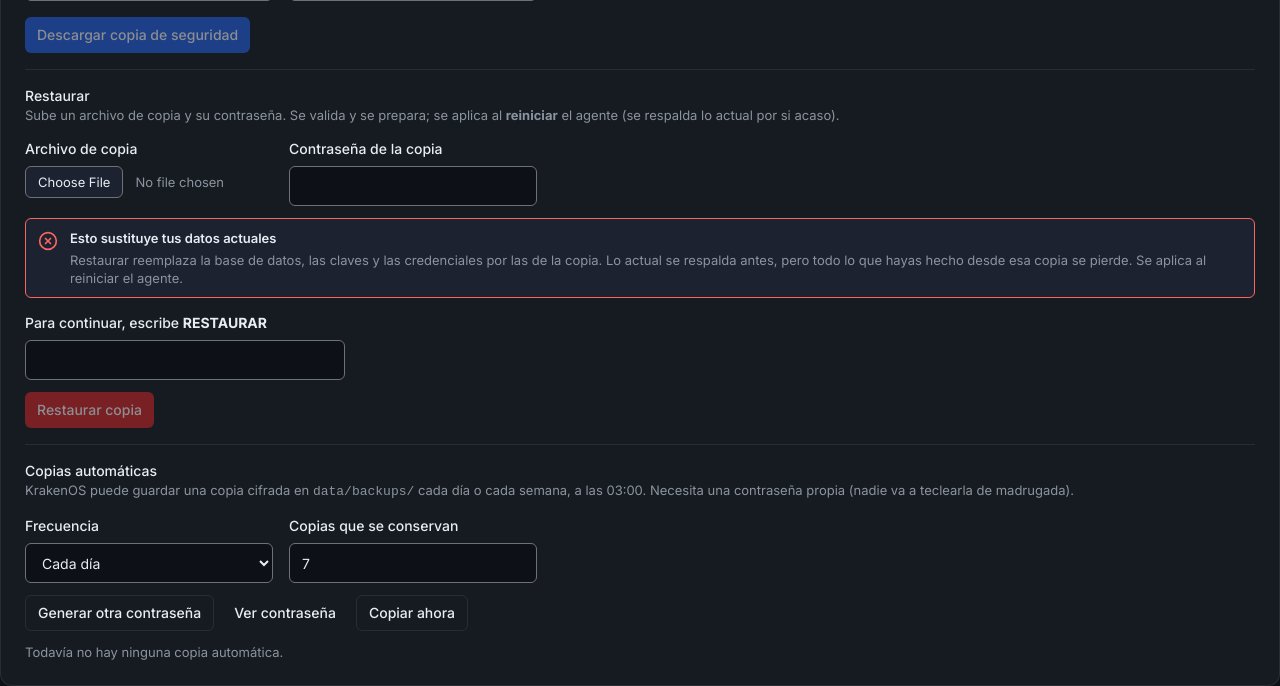
it: SystemBackupCard — copias automáticas › «copiar ahora» refresca el estado y avisa del resultado
(page scrolled)
Click the button "Copiar ahora".
click(412, 613)  # box [356,595,468,631]
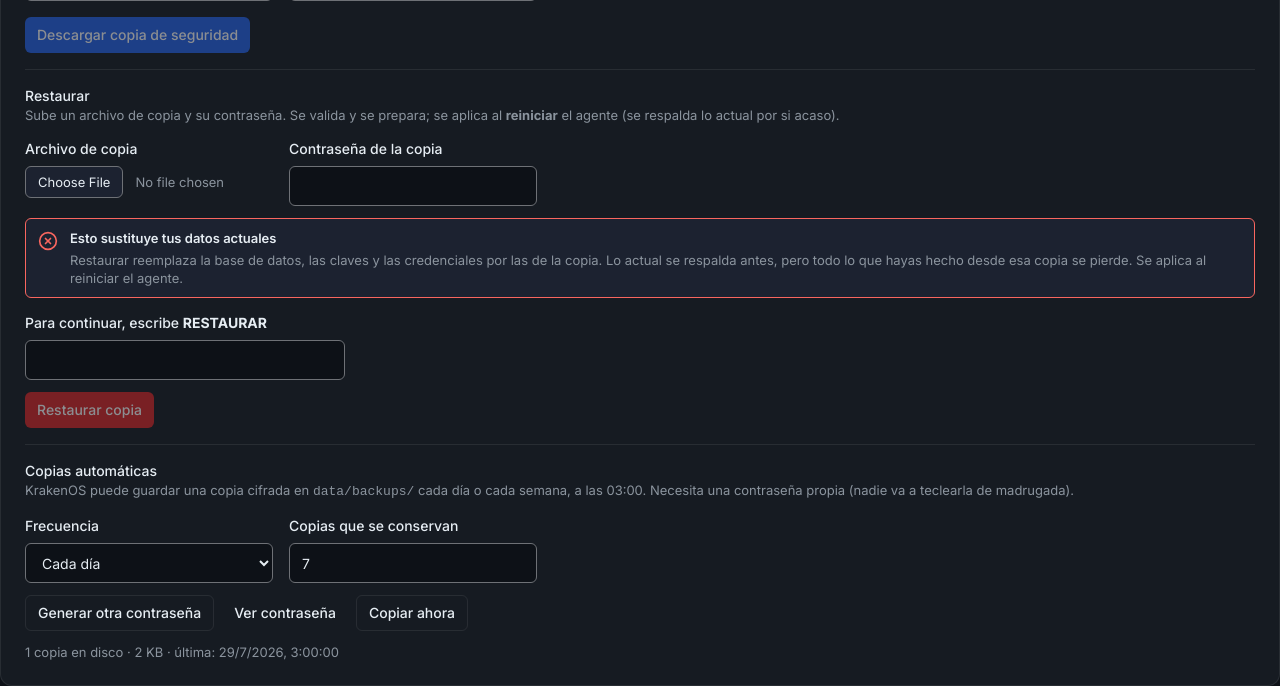
Check: the text "1 copia en disco · 2 KB · última: 29/7/2026, 3:00:00" is shown, box [25,644,339,660]
